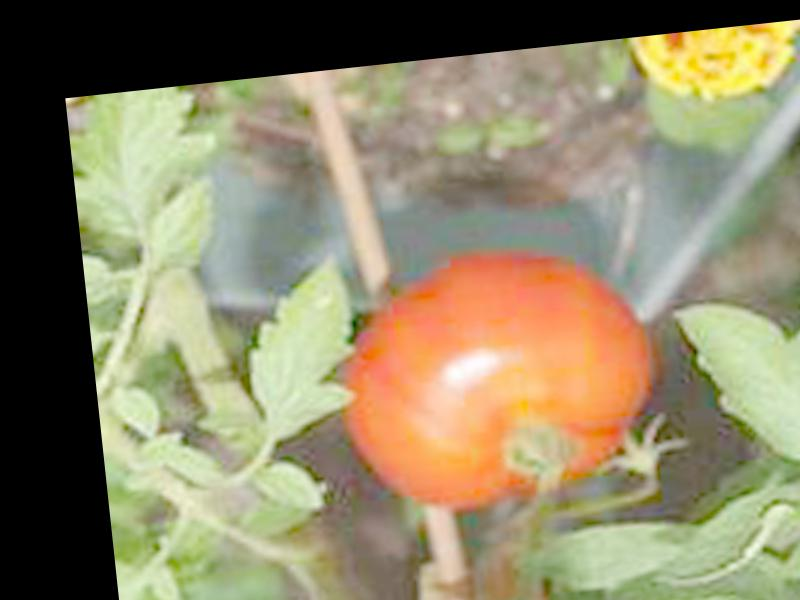Tomato: (325, 239, 669, 523)
